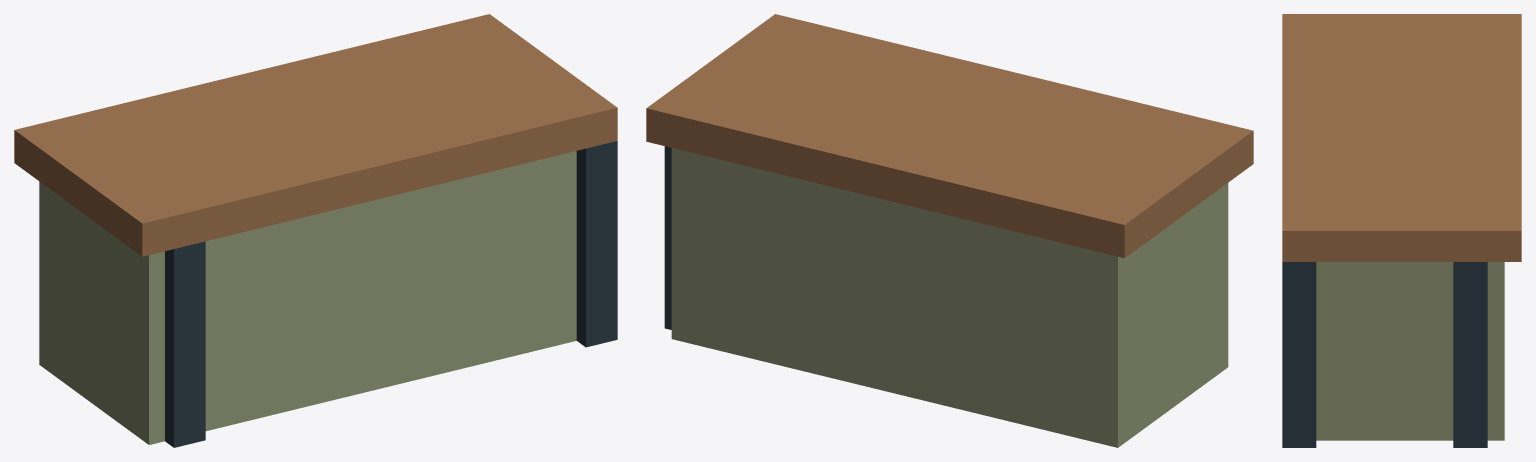
The model's file is property-08.glb.
The picture shows the model from 3 angles, left to right: view 1: azimuth 30°, elevation 25°; view 2: azimuth 150°, elevation 25°; view 3: azimuth 270°, elevation 25°; orthographic projection. The views are drawn at different scales.
Visible parts, largest first — view 1: Sample kitchen; view 2: Sample kitchen; view 3: Sample kitchen.
Boxes of the visible parts, box(x1,y1,x2,y2) form: Sample kitchen: box(14, 14, 617, 447); Sample kitchen: box(646, 14, 1253, 447); Sample kitchen: box(1282, 14, 1521, 447).
Size of the model in its own units: 2.4 by 1.12 by 1.12.
